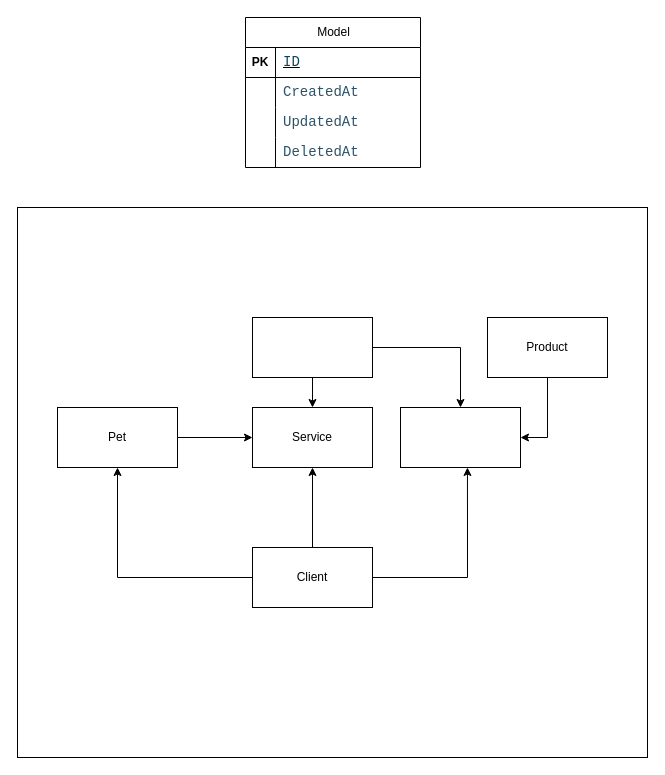
Some shapes in this 665 by 775 pixel diagram are drawn without their labels. Each missing label, with the centre of its shape:
"Order" belongs at [460,437].
"Staff" belongs at [312,347].
